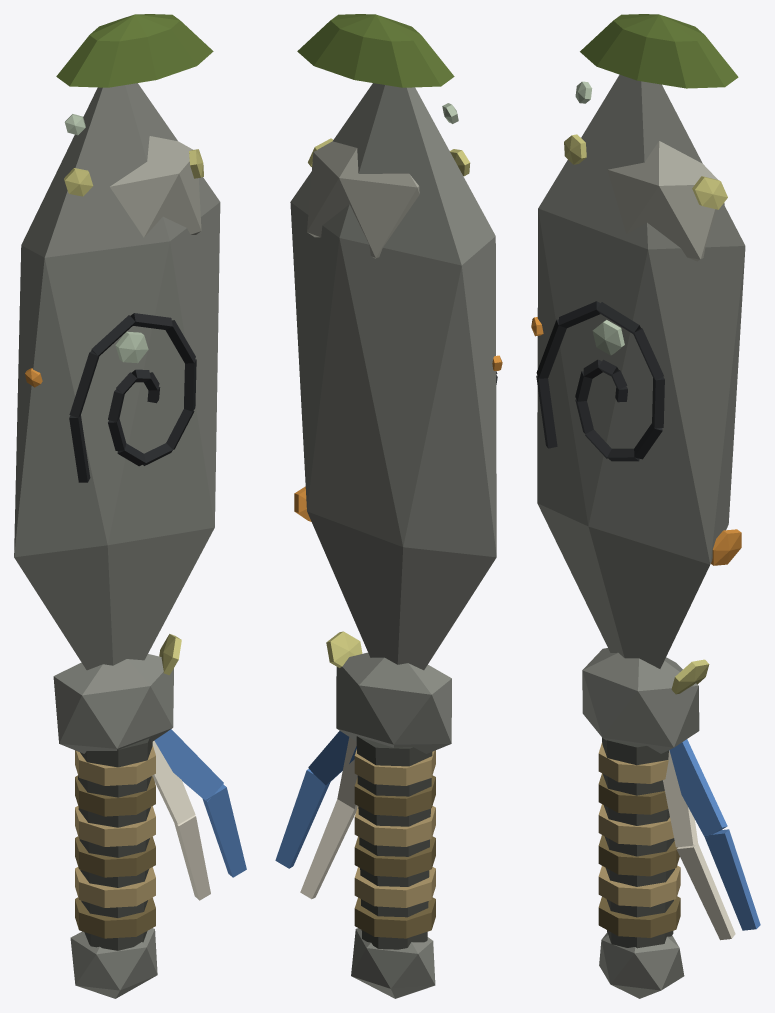
Rendered from stackstone_slab.glb.
The picture shows the model from 3 angles, left to right: view 1: azimuth 30°, elevation 25°; view 2: azimuth 150°, elevation 25°; view 3: azimuth 330°, elevation 25°; orthographic projection.
Parts seen in each view (by area): view 1: stackstone_slab; view 2: stackstone_slab; view 3: stackstone_slab.
Boxes of the visible parts, left/top/right/bottom form: stackstone_slab: left=14, top=14, right=246, bottom=998; stackstone_slab: left=275, top=14, right=502, bottom=998; stackstone_slab: left=531, top=14, right=760, bottom=998.
Size of the model in its own units: 0.4633 by 1.93 by 0.1963.
